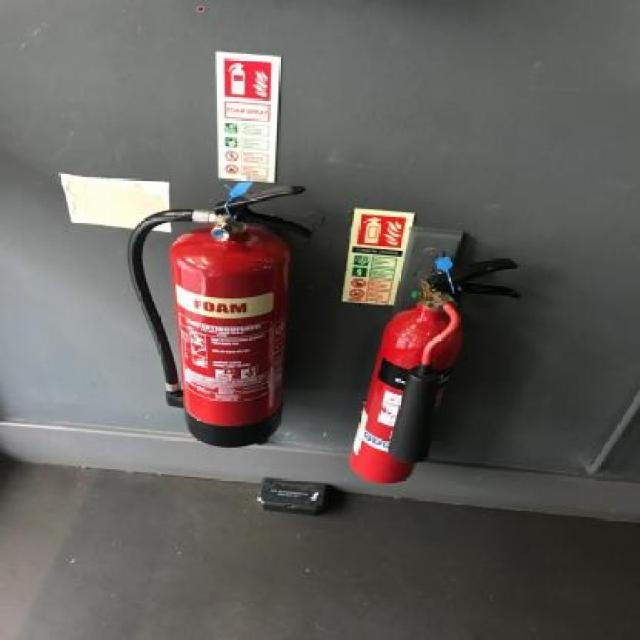fire extinguisher: (129, 185, 314, 451), (350, 258, 521, 484)
